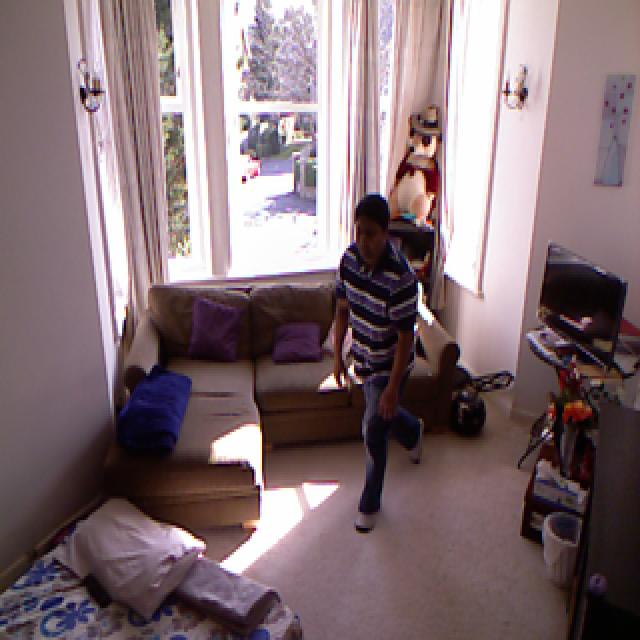standing: (333, 194, 426, 523)
